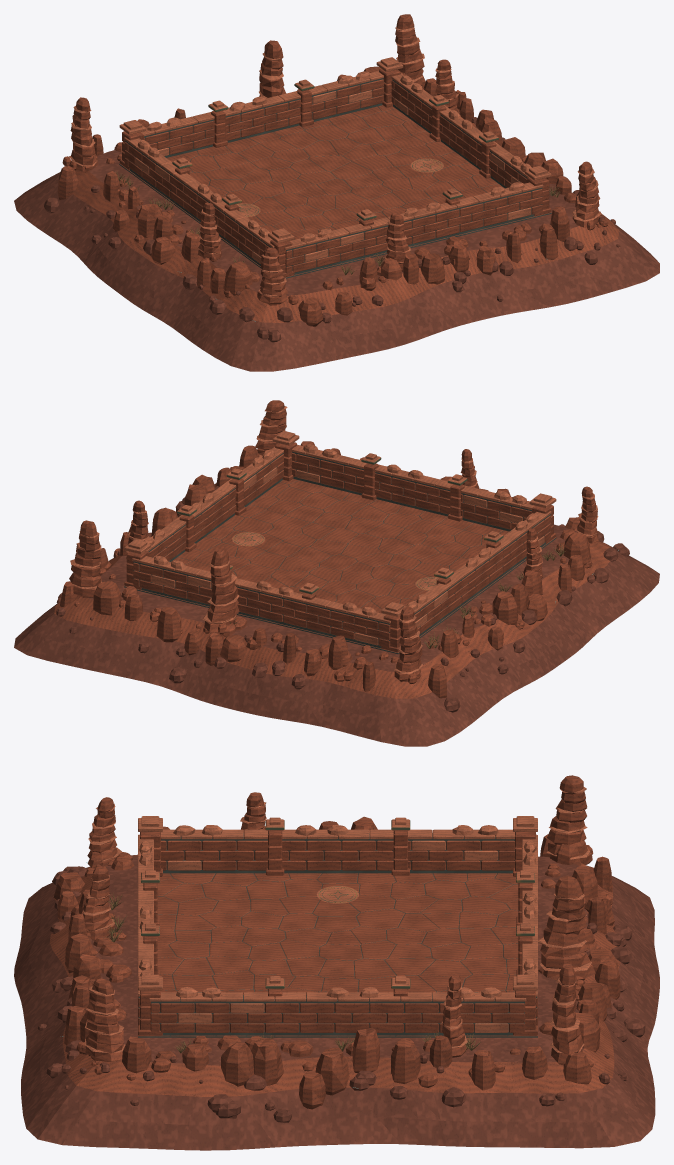
Rendered from realm_04.fbx.
3 renders of one model, top to bottom at view 1: azimuth 30°, elevation 25°; view 2: azimuth 150°, elevation 25°; view 3: azimuth 270°, elevation 25°, orthographic. The views are drawn at different scales.
Visible parts, largest first — view 1: realm_04__shore, realm_04__closed_walls, realm_04__combat_floor, realm_04__biome_dressing; view 2: realm_04__shore, realm_04__closed_walls, realm_04__combat_floor, realm_04__biome_dressing; view 3: realm_04__shore, realm_04__combat_floor, realm_04__closed_walls, realm_04__biome_dressing.
Part boxes in pixels (<box>): realm_04__shore: <box>14,66,659,371</box>; realm_04__closed_walls: <box>119,57,551,277</box>; realm_04__combat_floor: <box>119,105,551,278</box>; realm_04__biome_dressing: <box>62,14,620,304</box>; realm_04__shore: <box>14,441,659,746</box>; realm_04__closed_walls: <box>124,430,556,652</box>; realm_04__combat_floor: <box>124,479,556,653</box>; realm_04__biome_dressing: <box>56,400,598,683</box>; realm_04__shore: <box>14,816,659,1150</box>; realm_04__combat_floor: <box>138,873,537,1037</box>; realm_04__closed_walls: <box>138,816,537,1035</box>; realm_04__biome_dressing: <box>61,775,610,1090</box>.
Bounding box in the file's own units: 112727 × 112971 × 30050.
